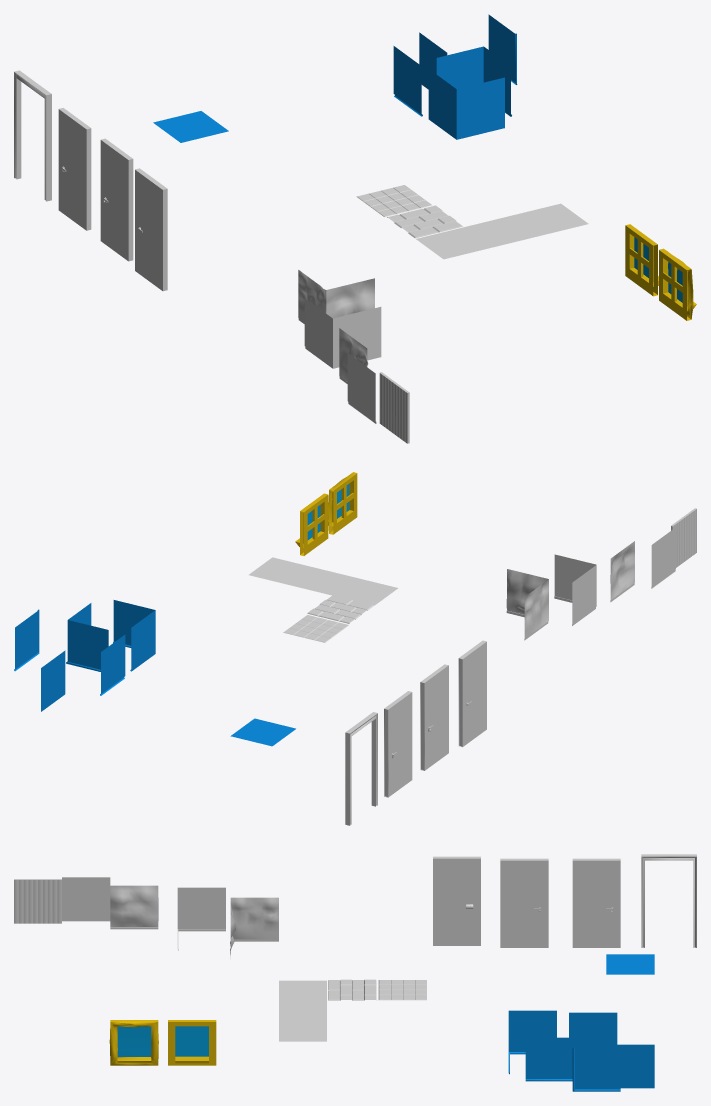
File: Hotel_RectangeTile.fbx
3 views of the same model, one above another, from view 1: azimuth 30°, elevation 25°; view 2: azimuth 150°, elevation 25°; view 3: azimuth 270°, elevation 25° (orthographic). The views are drawn at different scales.
Visible parts, largest first — view 1: Floor_WoodPlank, Wall_Glass_CornerIn, Door_Reg, Door_Toilet, Door_NumbLock, LP_Plasterwall_Corner, Wall_Glass_CornerOut, HP_Plasterwall_Corner, Doorframe, HP_Window, LP_Window, Wood_Overlay (+8 smaller); view 2: Floor_WoodPlank, Door_NumbLock, Door_Toilet, Door_Reg, LP_Plasterwall_Corner, HP_Plasterwall_Corner, Wall_Glass_CornerIn, Wall_Glass_CornerOut, Doorframe, HP_Window, LP_Window, Wall_Glass_Verti-Corner (+8 smaller); view 3: Door_Toilet, Door_Reg, Door_NumbLock, Floor_WoodPlank, HP_Window, LP_Window, LP_Plasterwall_Corner, HP_Plasterwall_Corner, LP_Plasterwall_Bottom, HP_Plasterwall_Bottom, Wood_Overlay, Wall_Glass_CornerOut (+8 smaller).
Part boxes in pixels (x1,y1,x2,y2): Floor_WoodPlank: [416, 203, 588, 259]; Wall_Glass_CornerIn: [428, 69, 504, 139]; Door_Reg: [58, 108, 91, 230]; Door_Toilet: [100, 138, 133, 261]; Door_NumbLock: [135, 168, 167, 291]; LP_Plasterwall_Corner: [304, 298, 381, 368]; Wall_Glass_CornerOut: [436, 46, 511, 116]; HP_Plasterwall_Corner: [298, 270, 374, 323]; Doorframe: [14, 70, 51, 201]; HP_Window: [659, 248, 696, 320]; LP_Window: [625, 224, 658, 296]; Wood_Overlay: [379, 372, 409, 443]; Floor_WoodPlank: [249, 557, 398, 605]; Door_NumbLock: [458, 640, 486, 747]; Door_Toilet: [420, 664, 448, 770]; Door_Reg: [384, 691, 412, 797]; LP_Plasterwall_Corner: [554, 554, 596, 625]; HP_Plasterwall_Corner: [506, 569, 548, 640]; Wall_Glass_CornerIn: [113, 600, 155, 671]; Wall_Glass_CornerOut: [66, 603, 108, 671]; Doorframe: [345, 712, 377, 825]; HP_Window: [328, 472, 357, 534]; LP_Window: [295, 493, 328, 555]; Wall_Glass_Verti-Corner: [14, 609, 39, 671]; Door_Toilet: [500, 858, 548, 947]; Door_Reg: [572, 858, 620, 947]; Door_NumbLock: [433, 856, 480, 945]; Floor_WoodPlank: [279, 980, 326, 1041]; HP_Window: [109, 1020, 158, 1065]; LP_Window: [168, 1020, 216, 1065]; LP_Plasterwall_Corner: [177, 887, 225, 950]; HP_Plasterwall_Corner: [230, 897, 278, 959]; LP_Plasterwall_Bottom: [62, 877, 110, 921]; HP_Plasterwall_Bottom: [110, 885, 158, 929]; Wood_Overlay: [14, 879, 61, 923]; Wall_Glass_CornerOut: [525, 1037, 572, 1081].
Bounding box in the file's own units: 905 × 210 × 1418.
